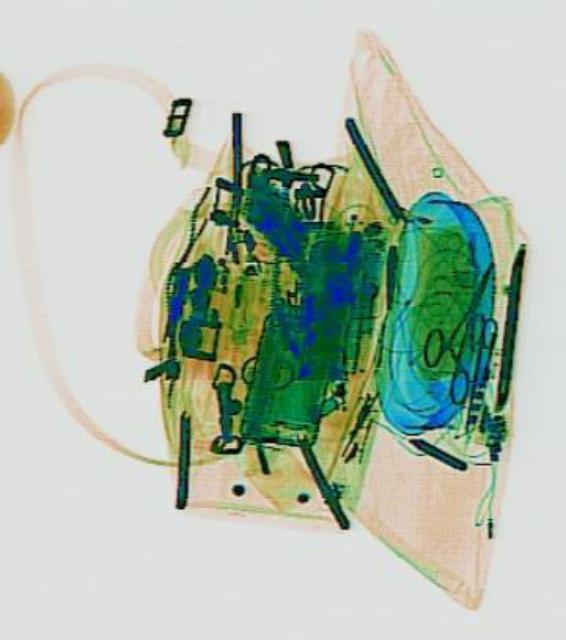Scissors: (404, 248, 513, 404), (448, 308, 495, 438)
